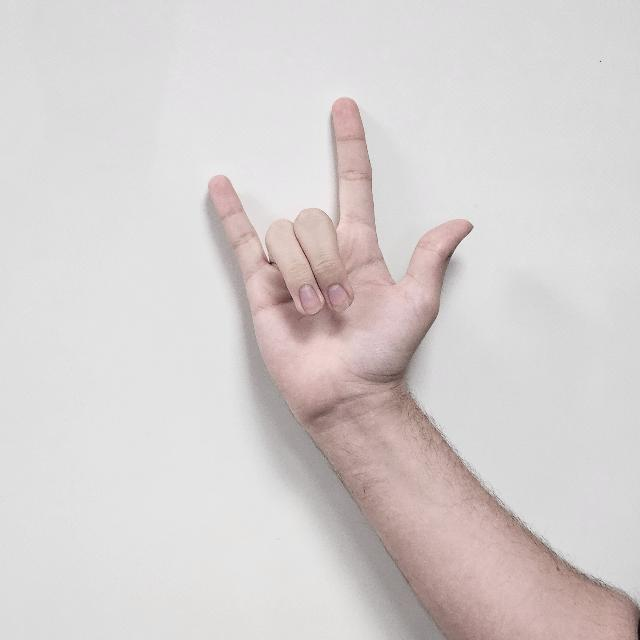Cima: (198, 84, 484, 420)
